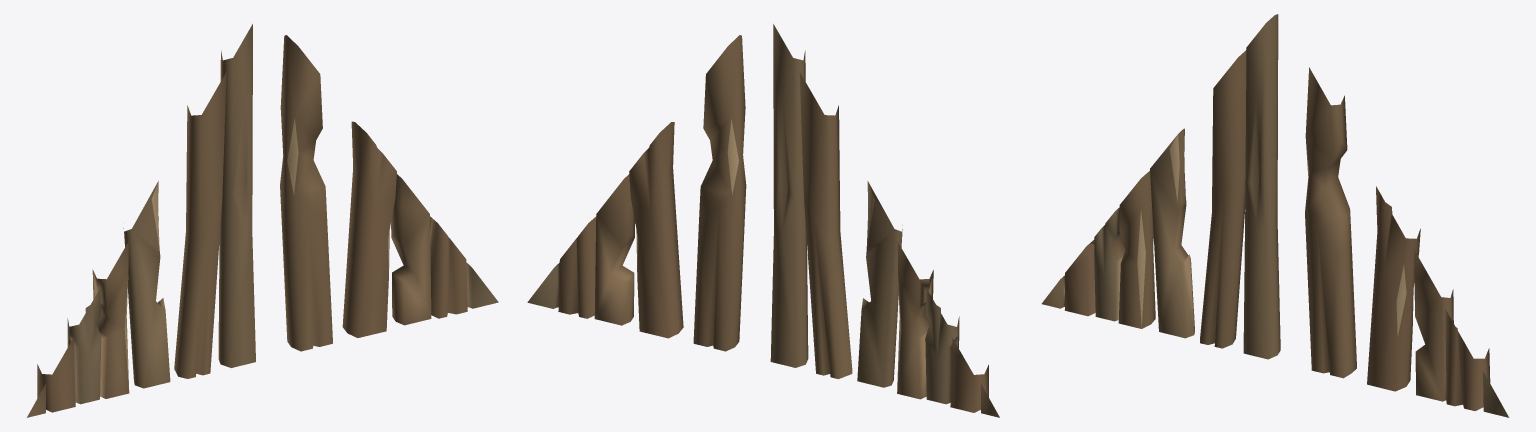
File: rpgpp_av_roof_end_01_6x5_wall_02b.gltf
3 views of the same model, side by side, from view 1: azimuth 30°, elevation 25°; view 2: azimuth 150°, elevation 25°; view 3: azimuth 330°, elevation 25° (orthographic).
Parts seen in each view (by area): view 1: rpgpp_av_roof_end_01_6x5_wall_02b; view 2: rpgpp_av_roof_end_01_6x5_wall_02b; view 3: rpgpp_av_roof_end_01_6x5_wall_02b.
Part boxes in pixels (x1,y1,x2,y2): rpgpp_av_roof_end_01_6x5_wall_02b: (27, 24, 498, 417); rpgpp_av_roof_end_01_6x5_wall_02b: (527, 24, 999, 417); rpgpp_av_roof_end_01_6x5_wall_02b: (1041, 14, 1509, 417).
Size of the model in its own units: 0.0675 by 0.0468 by 0.00388.
Materials: 1 (1 with a texture image).
